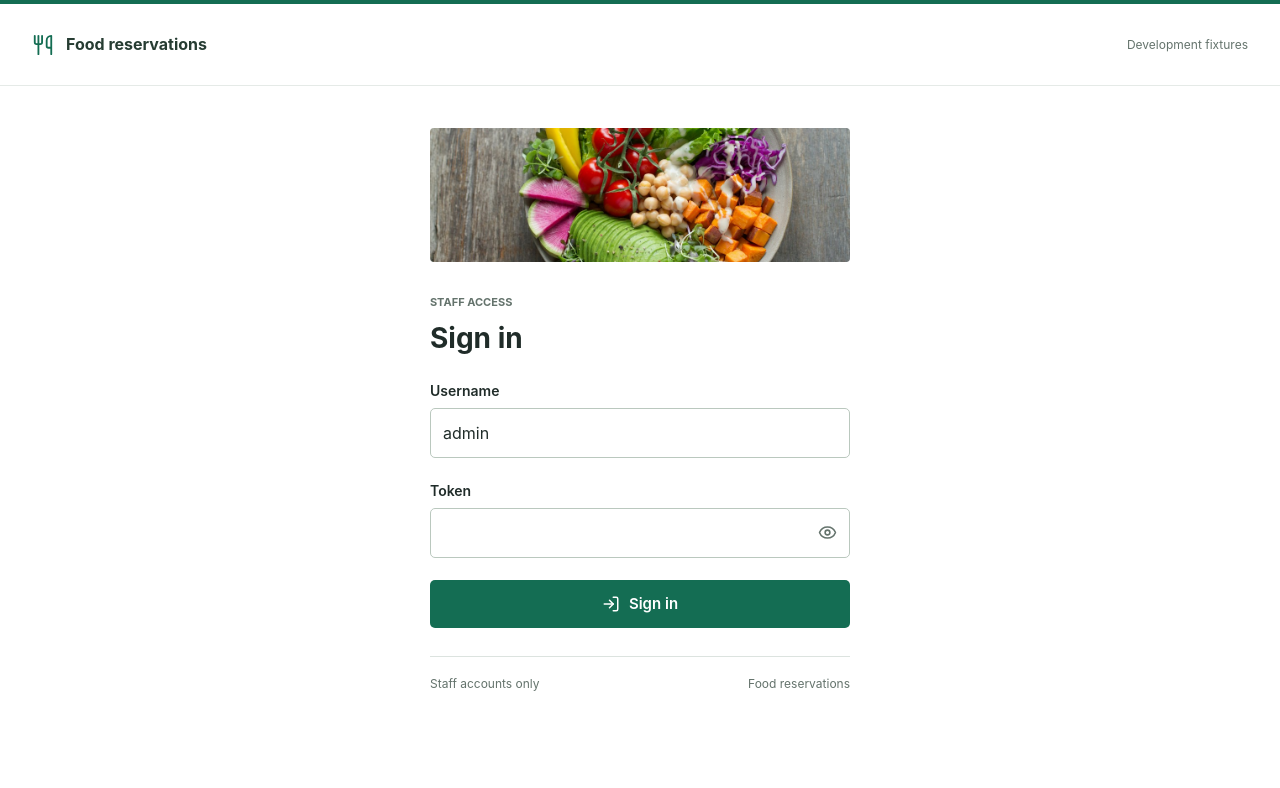
Scenario: recipe and ingredient estimate workflow › edits a saved recipe in kilograms and refreshes the estimate and the menu link
Type "local-admin-token" into the password field labelled "Token" at (618, 532), box [431,508,805,556]
Click the button "Sign in" at (640, 604), box [430,580,850,628]
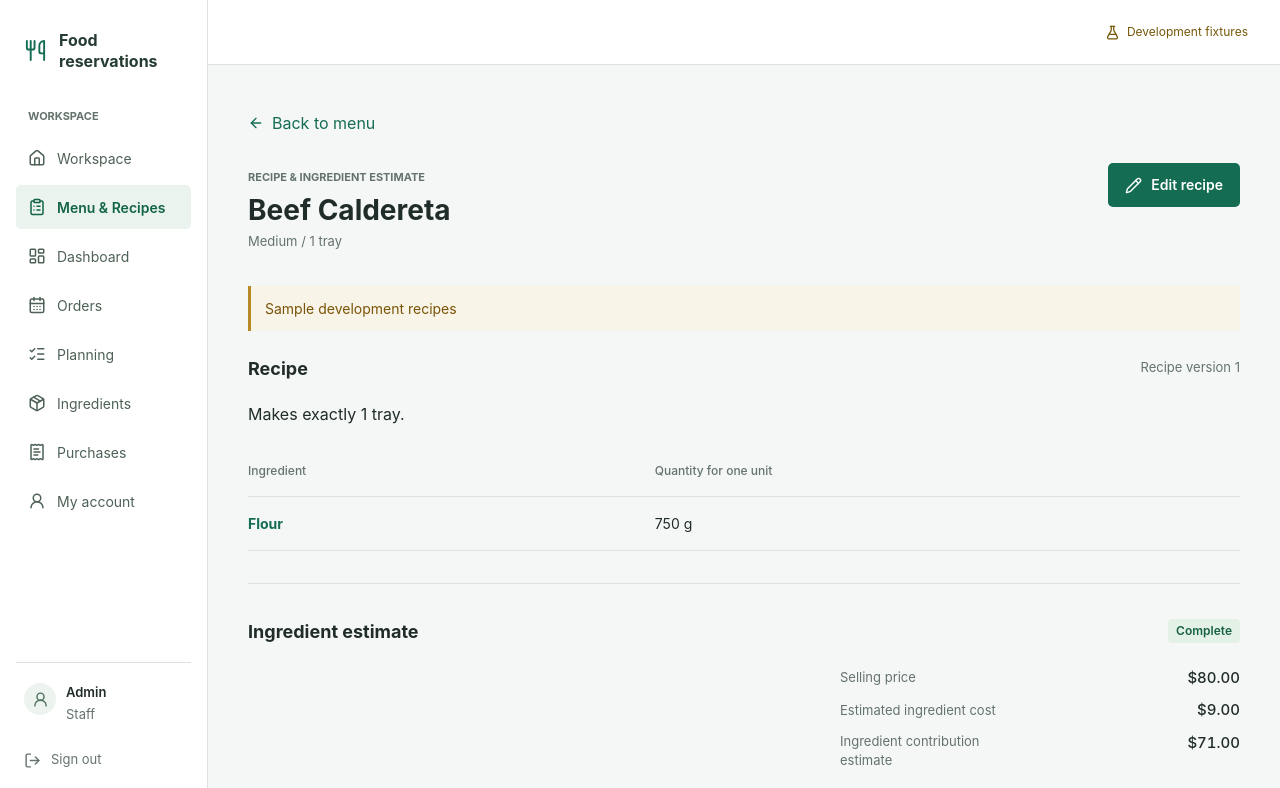
Click the button "Edit recipe" at (1174, 185), box [1108,163,1240,207]
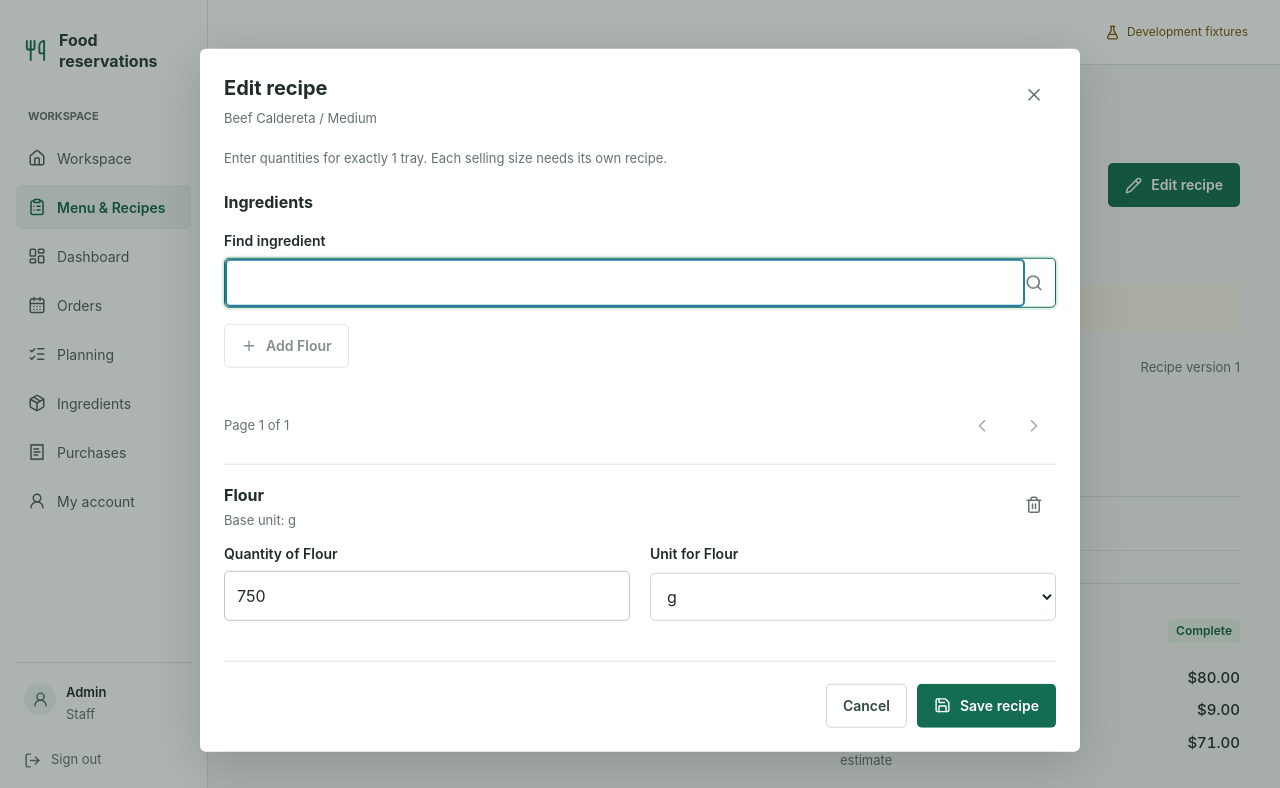
Now the field labelled "Quantity of Flour" holds "750", box [225,571,629,619]
Now the dropdown labelled "Unit for Flour" shows "g"
Select "kg" in the dropdown labelled "Unit for Flour" at (853, 596), box [650,572,1056,620]
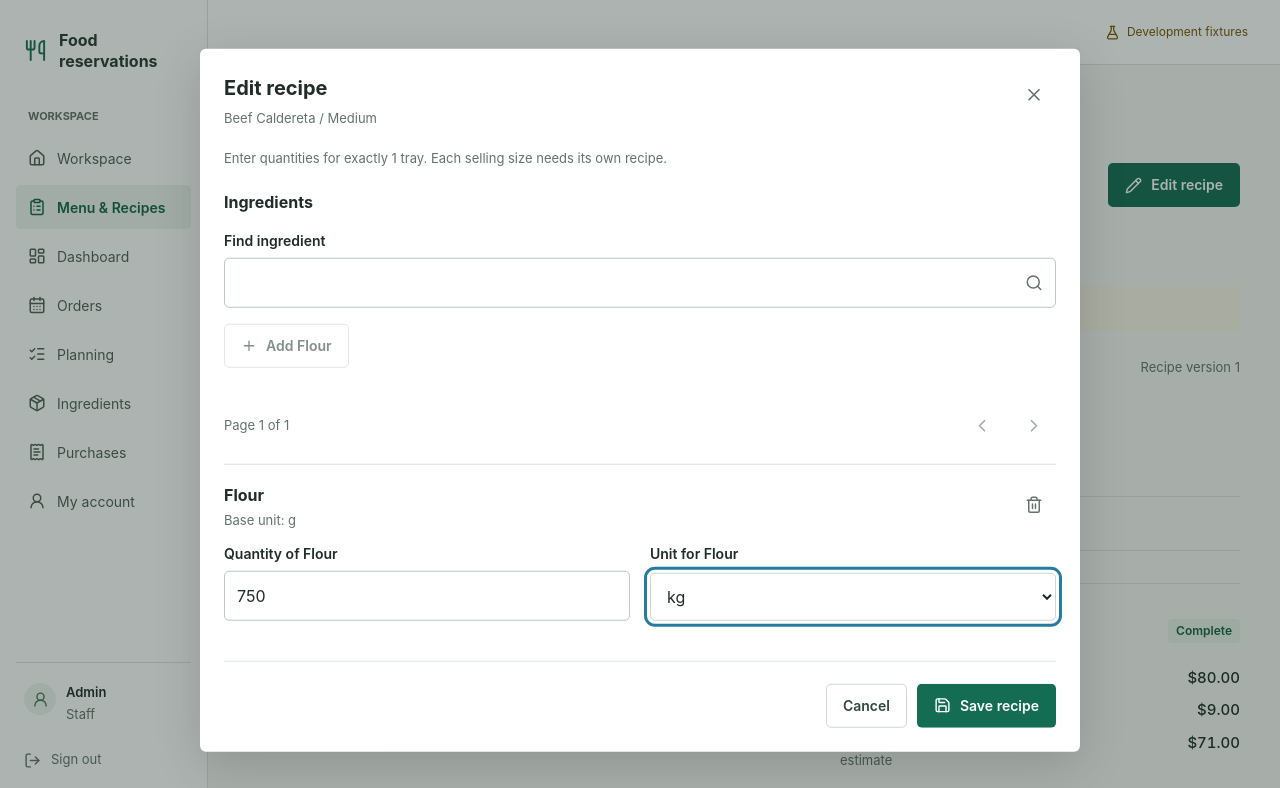
Replace the text in the field labelled "Quantity of Flour" with "0.5" at (427, 595), box [225,571,629,619]
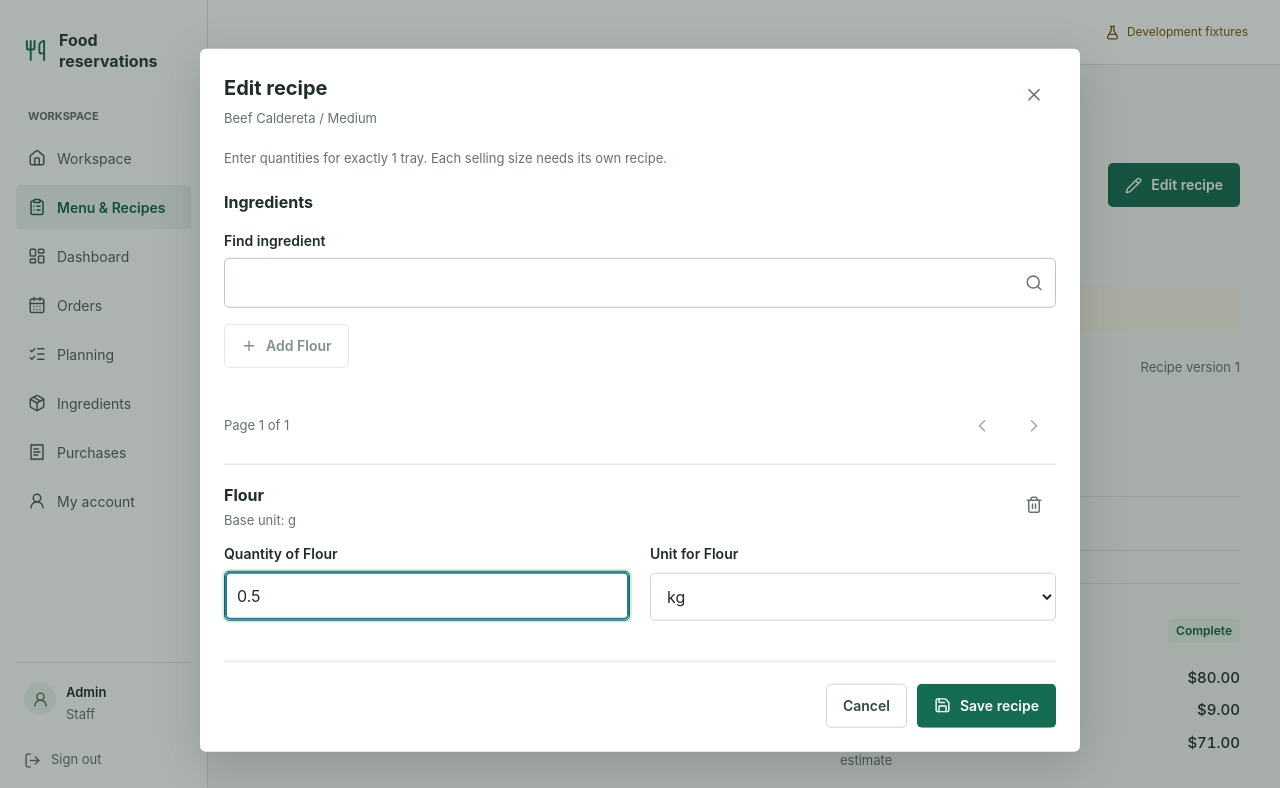
Click the button "Save recipe" at (986, 705), box [917,683,1056,727]
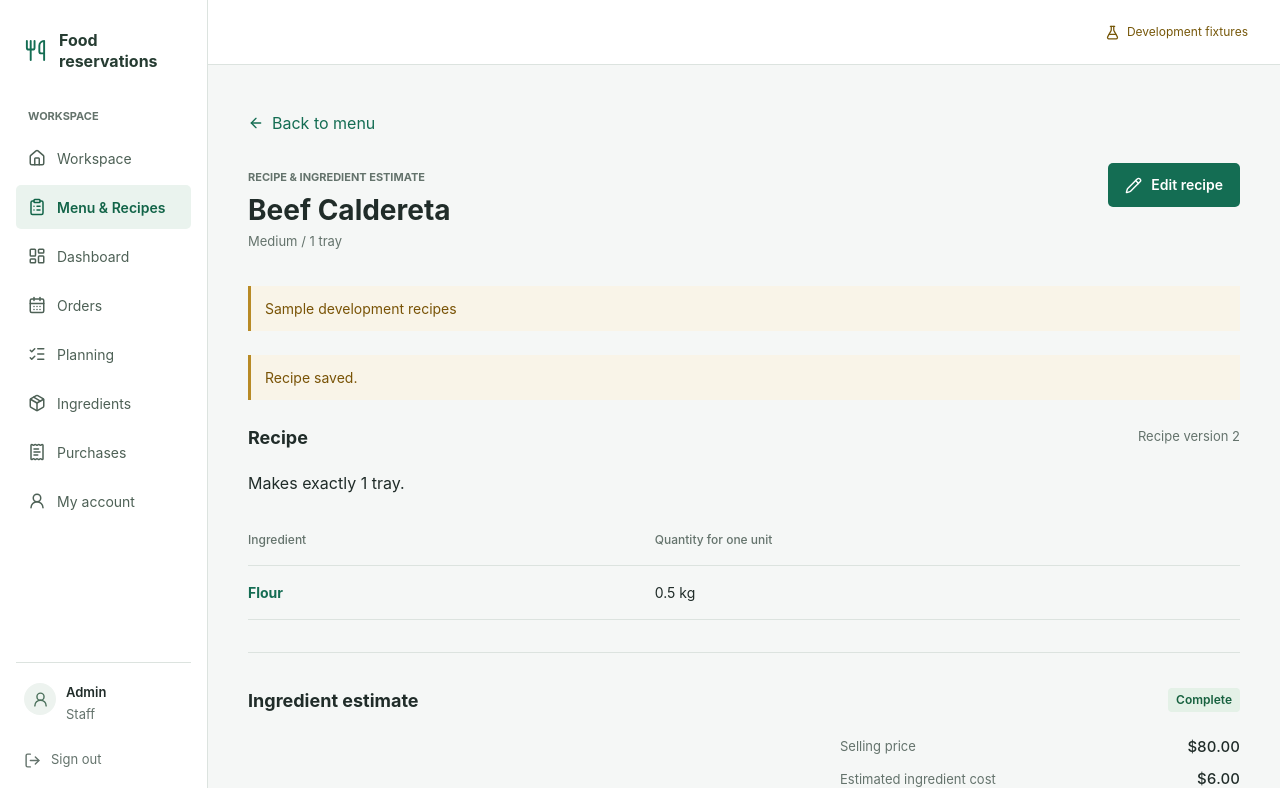
Now the text "Recipe saved." is shown, box [265,366,357,388]
Now the text "0.5 kg" is shown, box [645,565,1240,619]
Now the text "Recipe version 2" is shown, box [1138,427,1240,447]
Click the link "Back to menu" at (312, 123), box [248,113,375,133]
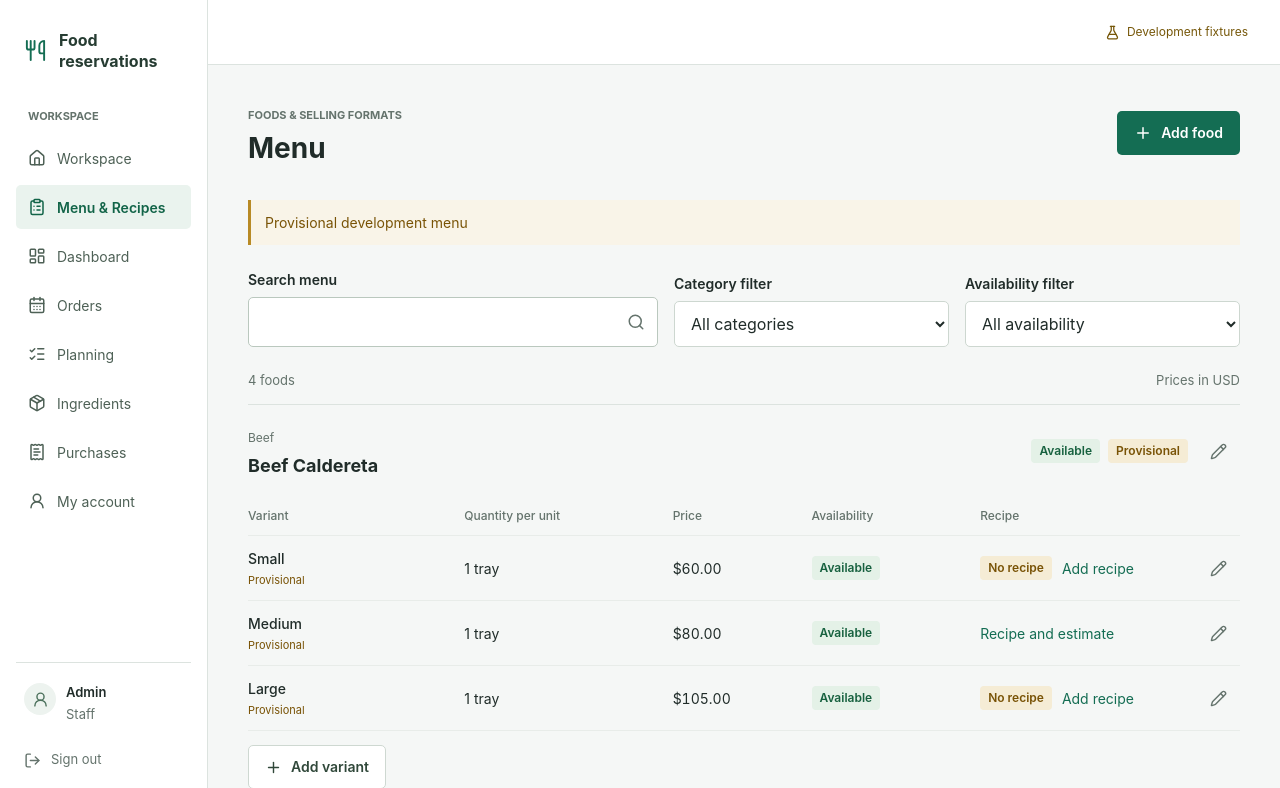
Now the link with aria-label "Recipe and estimate for Medium of Beef Caldereta" is shown, box [980,624,1114,642]
Now the link with aria-label "Add recipe for Small of Beef Caldereta" is shown, box [1062,560,1134,576]
